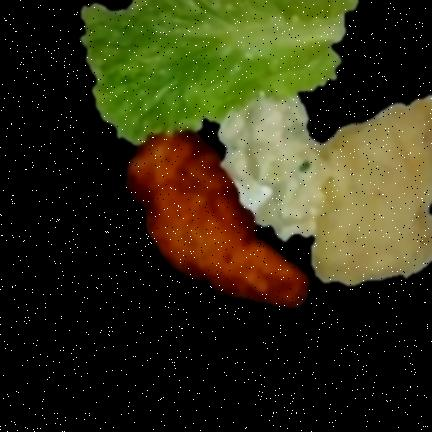chicken: (127, 133, 309, 308)
potato: (313, 96, 432, 284)
salad: (82, 0, 358, 143)
